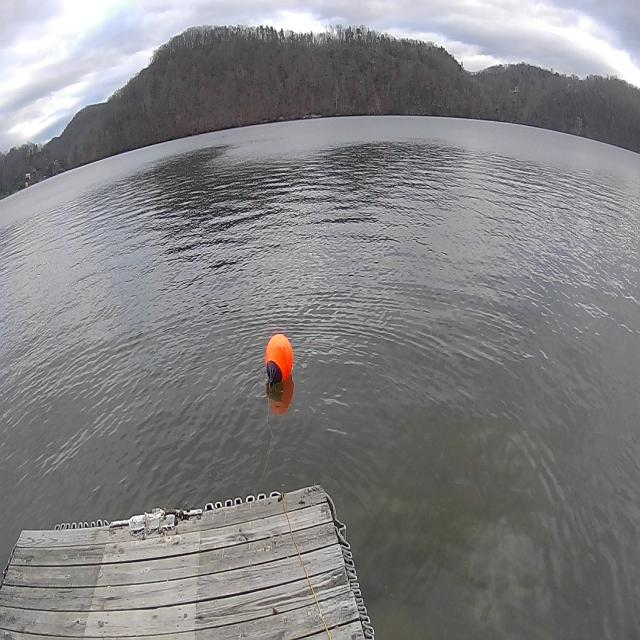Buoy: (263, 332, 300, 388)
